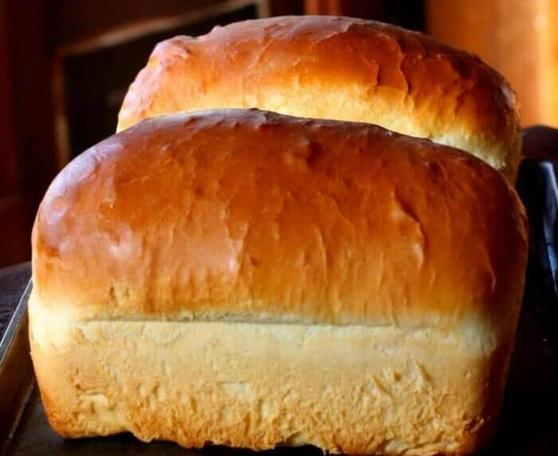white_bread: (30, 114, 529, 450)
